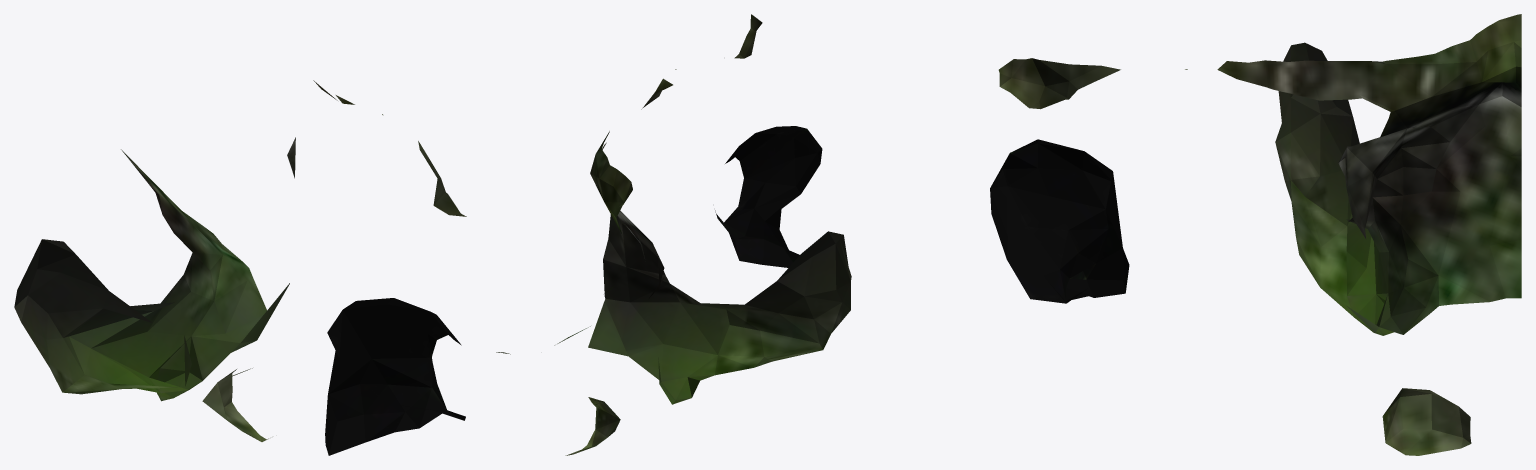
3 renders of one model, left to right at view 1: azimuth 30°, elevation 25°; view 2: azimuth 150°, elevation 25°; view 3: azimuth 270°, elevation 25°, orthographic. The views are drawn at different scales.
Size of the model in its own units: 0.9958 by 1.31 by 1.97.
Materials: 1 (1 with a texture image).
